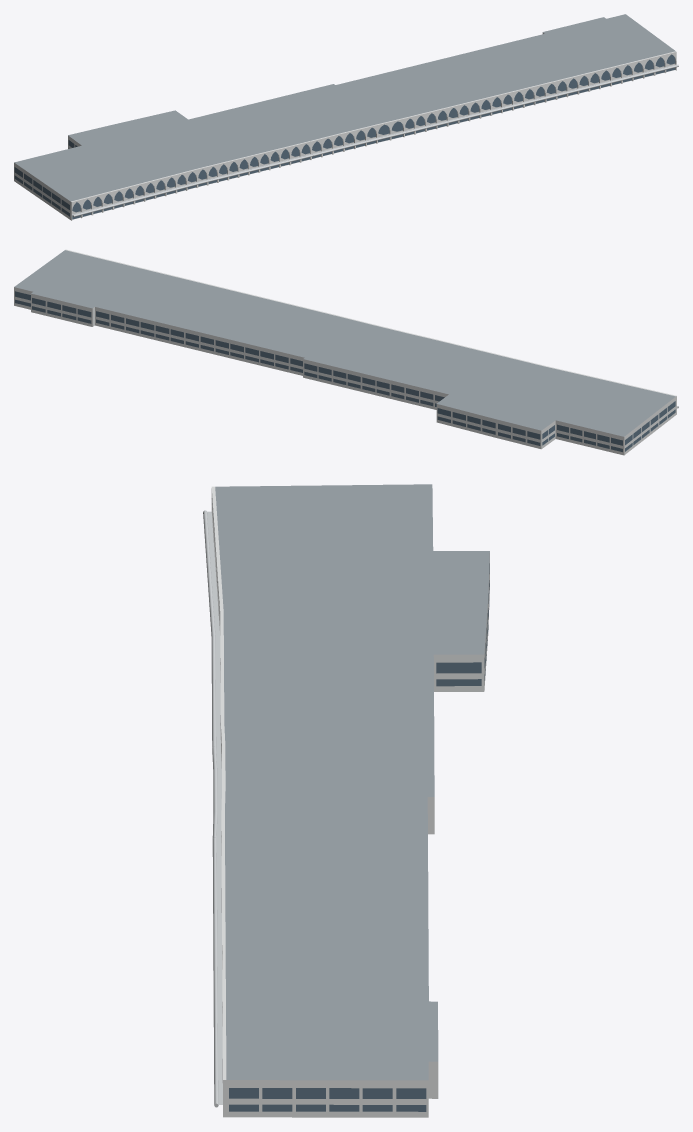
Rendered from dubai-dxb-terminal-1.glb.
3 views of the same model, one above another, from view 1: azimuth 30°, elevation 25°; view 2: azimuth 150°, elevation 25°; view 3: azimuth 270°, elevation 25° (orthographic). The views are drawn at different scales.
Visible parts, largest first — view 1: Dubai International Airport Terminal 1; view 2: Dubai International Airport Terminal 1; view 3: Dubai International Airport Terminal 1.
Part boxes in pixels (<box>): Dubai International Airport Terminal 1: <box>14,14,678,220</box>; Dubai International Airport Terminal 1: <box>14,249,678,455</box>; Dubai International Airport Terminal 1: <box>203,484,489,1117</box>.
Bounding box in the file's own units: 651 × 19 × 132.
